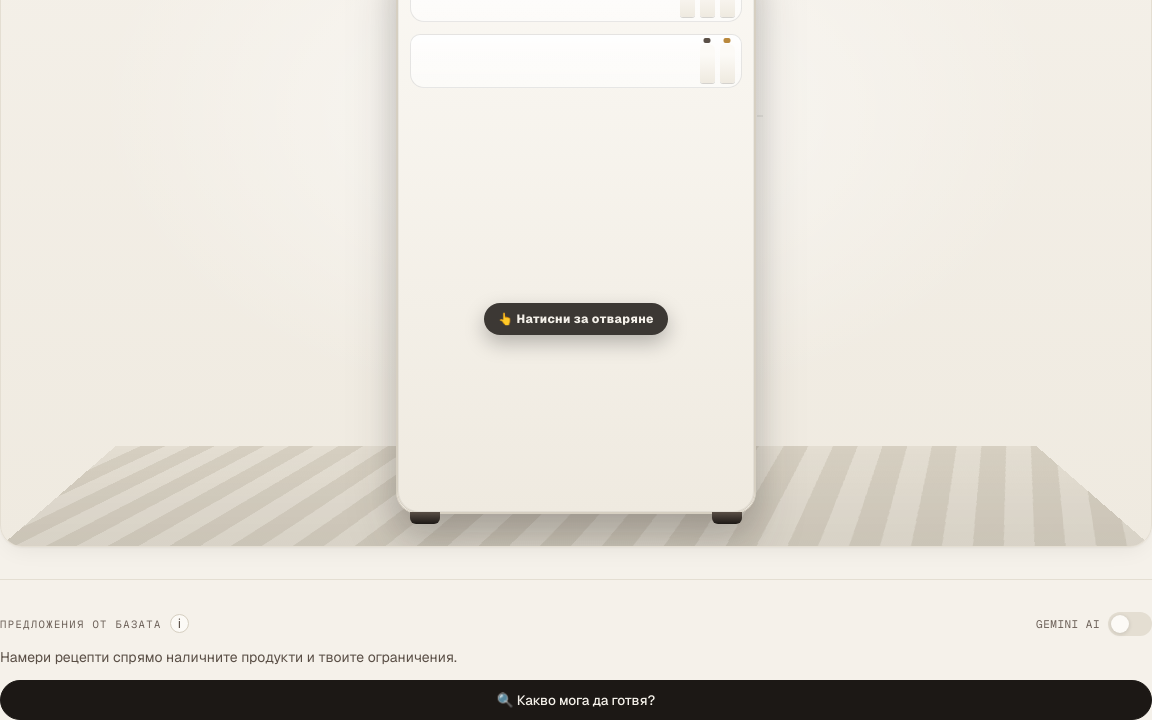
Test: FridgeScreen – translate button visibility › does not show translate button for AI-generated recipes
The width and height of the screenshot is (1152, 720).
(page scrolled)
Click the button "🔍 Какво мога да готвя?" at (576, 700), box [0,680,1151,719]
(page scrolled)
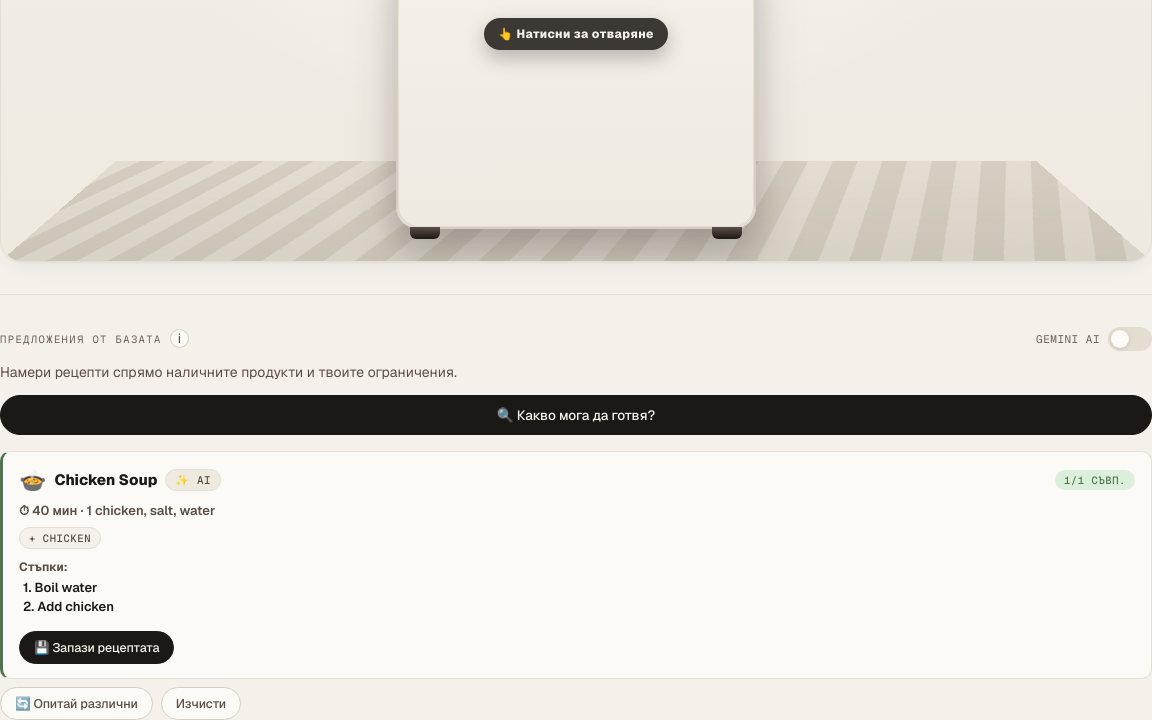
Expected: the text "Chicken Soup" is shown, [54,470,157,490]
